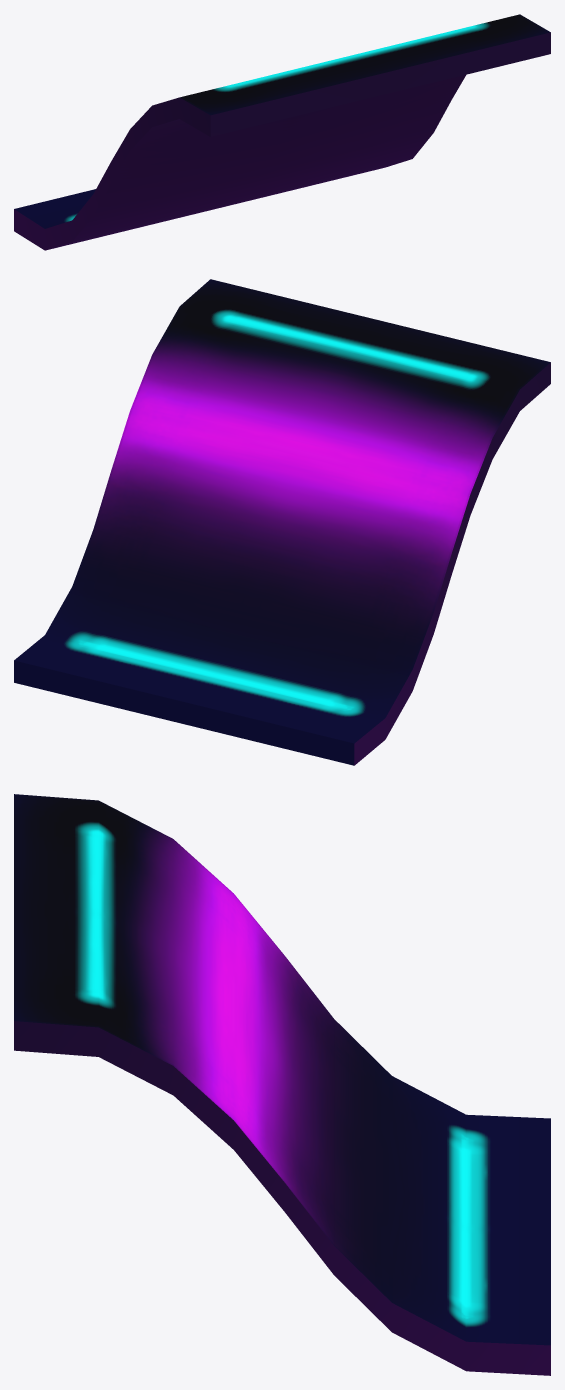
File: urban_slope.gltf
3 renders of one model, top to bottom at view 1: azimuth 30°, elevation 25°; view 2: azimuth 150°, elevation 25°; view 3: azimuth 270°, elevation 25°, orthographic. The views are drawn at different scales.
Visible parts, largest first — view 1: urban_slope_glb; view 2: urban_slope_glb; view 3: urban_slope_glb.
Boxes of the visible parts, x1=… form: urban_slope_glb: x1=14, y1=14, x2=550, y2=250; urban_slope_glb: x1=14, y1=279, x2=550, y2=765; urban_slope_glb: x1=14, y1=794, x2=550, y2=1375.
Size of what is drawn, in the model's own units: 4 by 2.92 by 4.
Materials: 1 (1 with a texture image).
